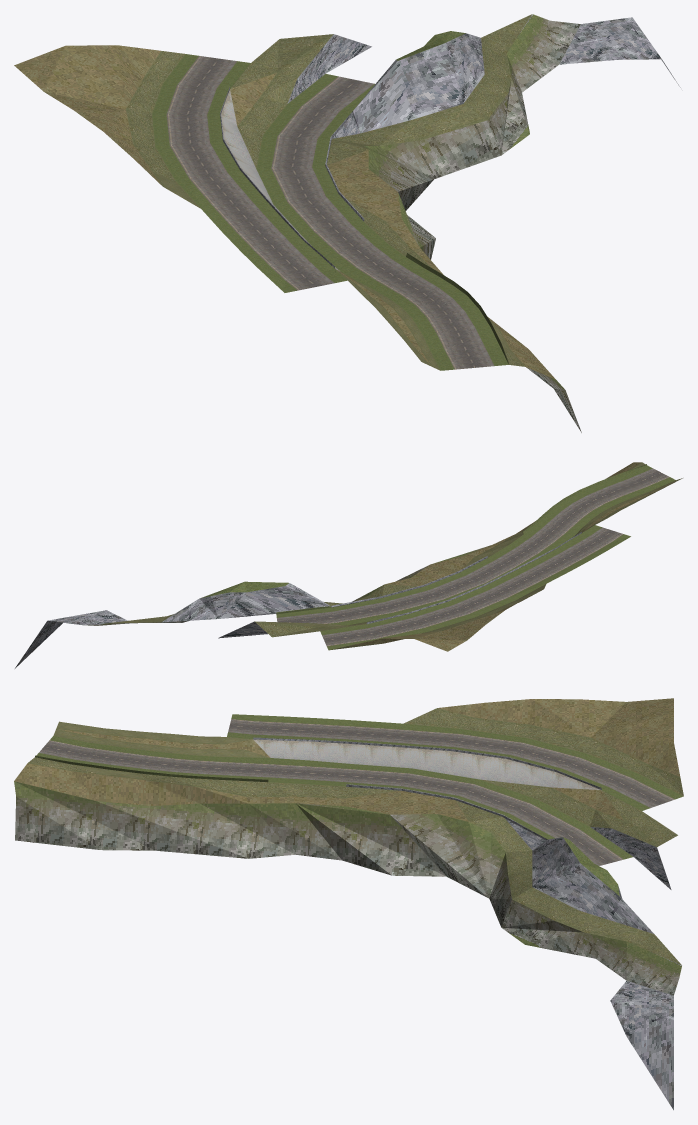
Rendered from sw_lodbit_01.obj.
3 views of the same model, one above another, from view 1: azimuth 30°, elevation 25°; view 2: azimuth 150°, elevation 25°; view 3: azimuth 270°, elevation 25° (orthographic). The views are drawn at different scales.
Visible parts, largest first — view 1: sw_lodbit_01; view 2: sw_lodbit_01; view 3: sw_lodbit_01.
Boxes of the visible parts, x1,y1,x2,y2 form: sw_lodbit_01: (14, 14, 680, 432); sw_lodbit_01: (15, 462, 682, 668); sw_lodbit_01: (14, 698, 683, 1110).
Bounding box in the file's own units: 232 × 64.91 × 250.
Materials: 11 (11 with a texture image).
